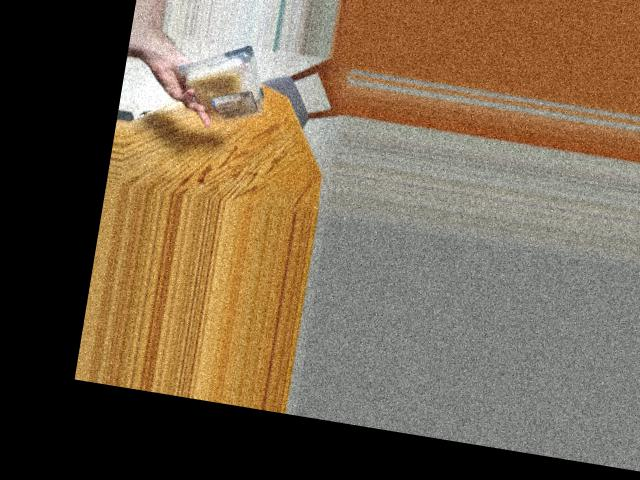cheese: (179, 48, 271, 120)
